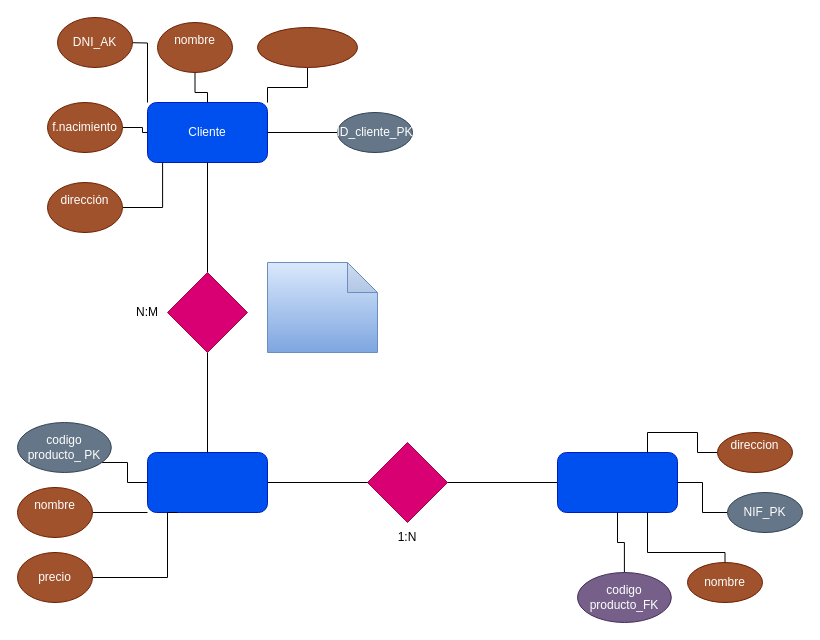
Image size: 820x640. Some labels were removed from this diagram. Each missing label, with the box of its shape:
apellidos: (256, 26, 358, 68)
Compra: (166, 272, 248, 352)
Producto: (146, 452, 268, 512)
Proveedor: (556, 452, 678, 512)
Se convierte en tabla intermedia: (266, 262, 378, 352)
Suministra: (366, 442, 448, 522)
